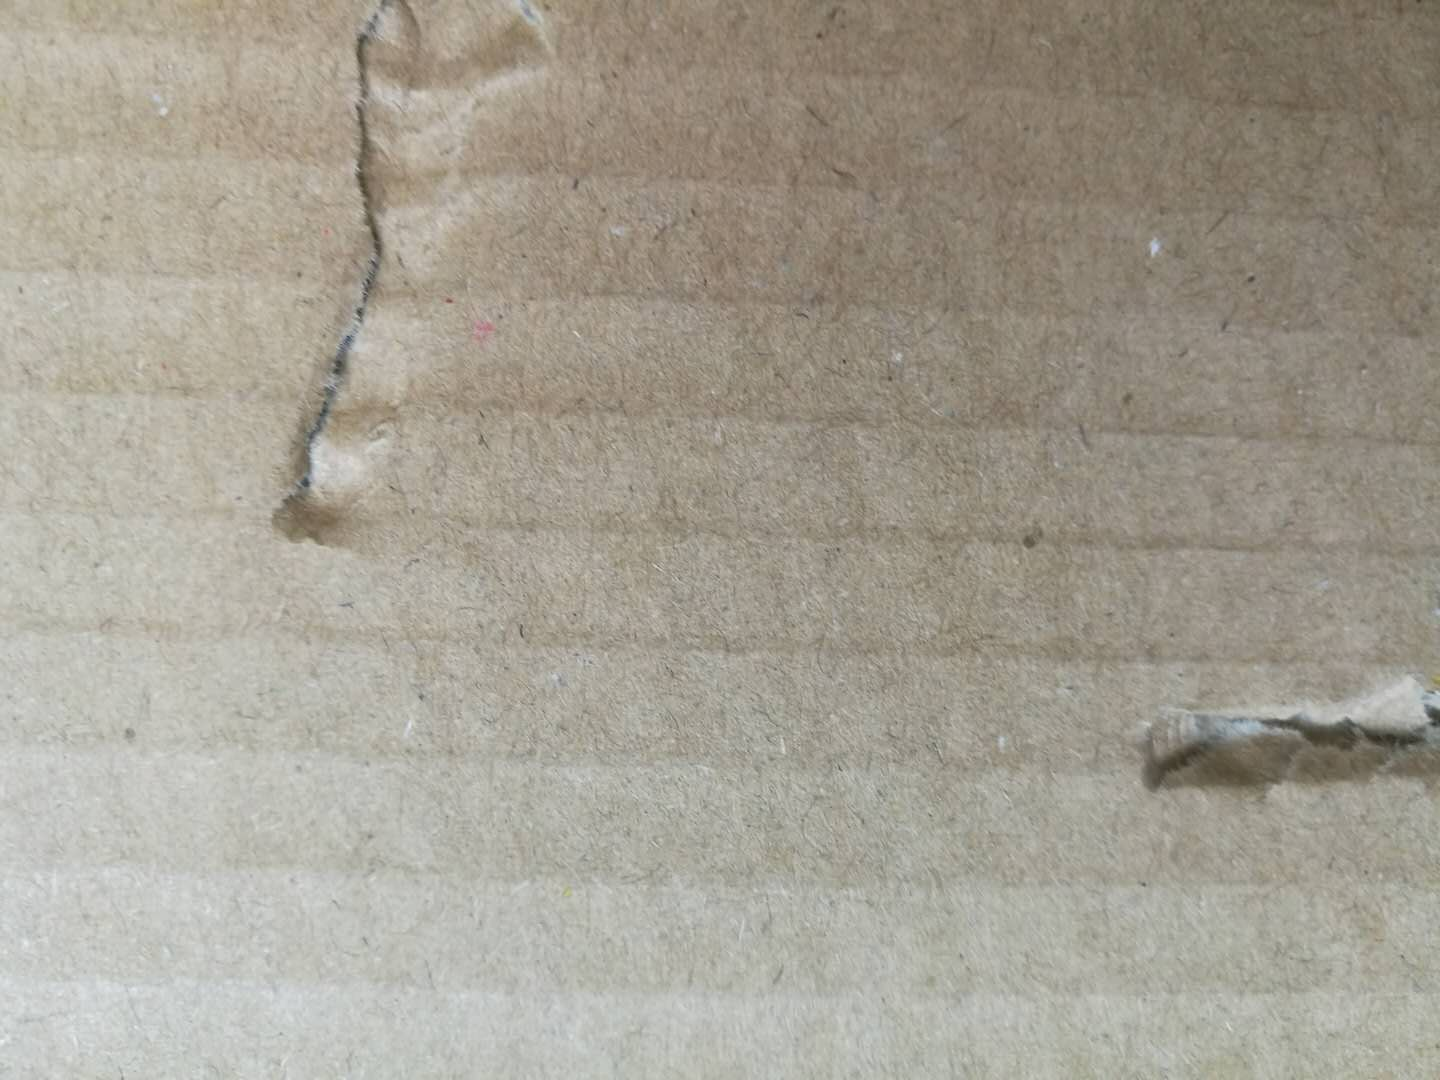defect: (211, 2, 610, 579), (1121, 635, 1440, 846)
